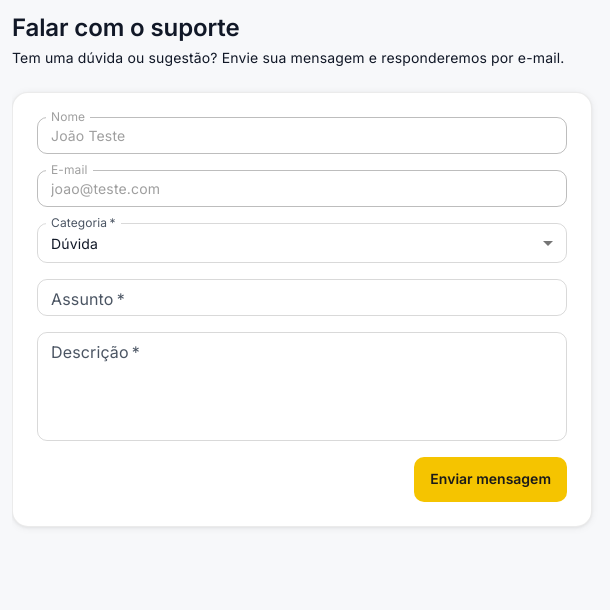
SuporteForm › mostra banner de erro quando o envio falha
In the field labelled "Assunto *": (302, 298) x1=37 y1=279 x2=567 y2=316, type "Não consigo acessar"
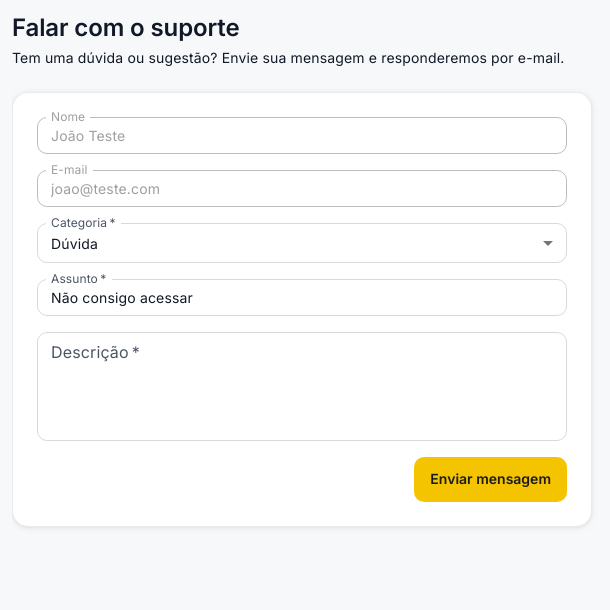
In the text box labelled "Descrição *": (302, 387) x1=51 y1=341 x2=553 y2=433, type "Descrição longa o suficiente para passar na validação."
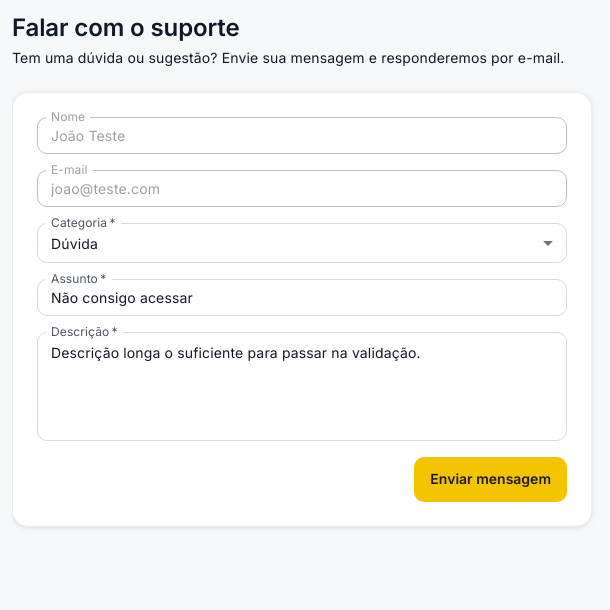
Click the button "Enviar mensagem": (491, 480) x1=414 y1=457 x2=567 y2=502
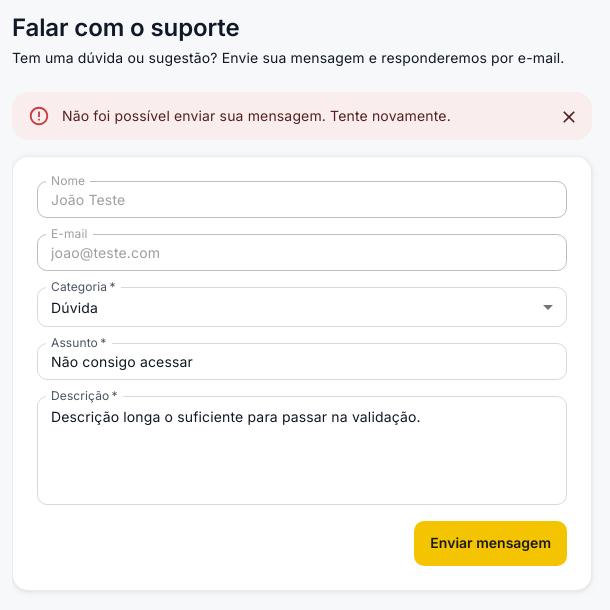
Result: the text "Não foi possível enviar sua mensagem. Tente novamente." is shown at x1=62 y1=107 x2=451 y2=124
